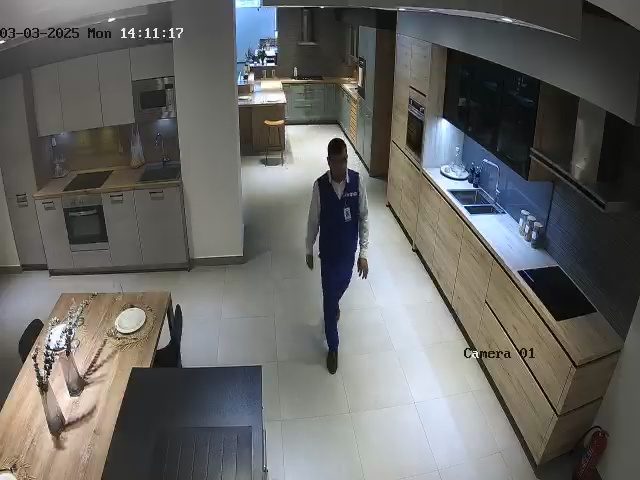employee: (305, 138, 370, 375)
